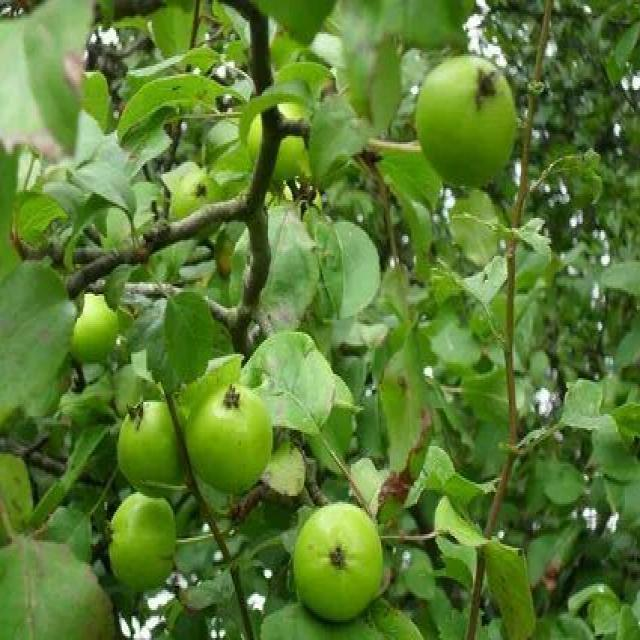Fresh Apple: (418, 68, 530, 188), (277, 505, 385, 628), (185, 402, 275, 492)
